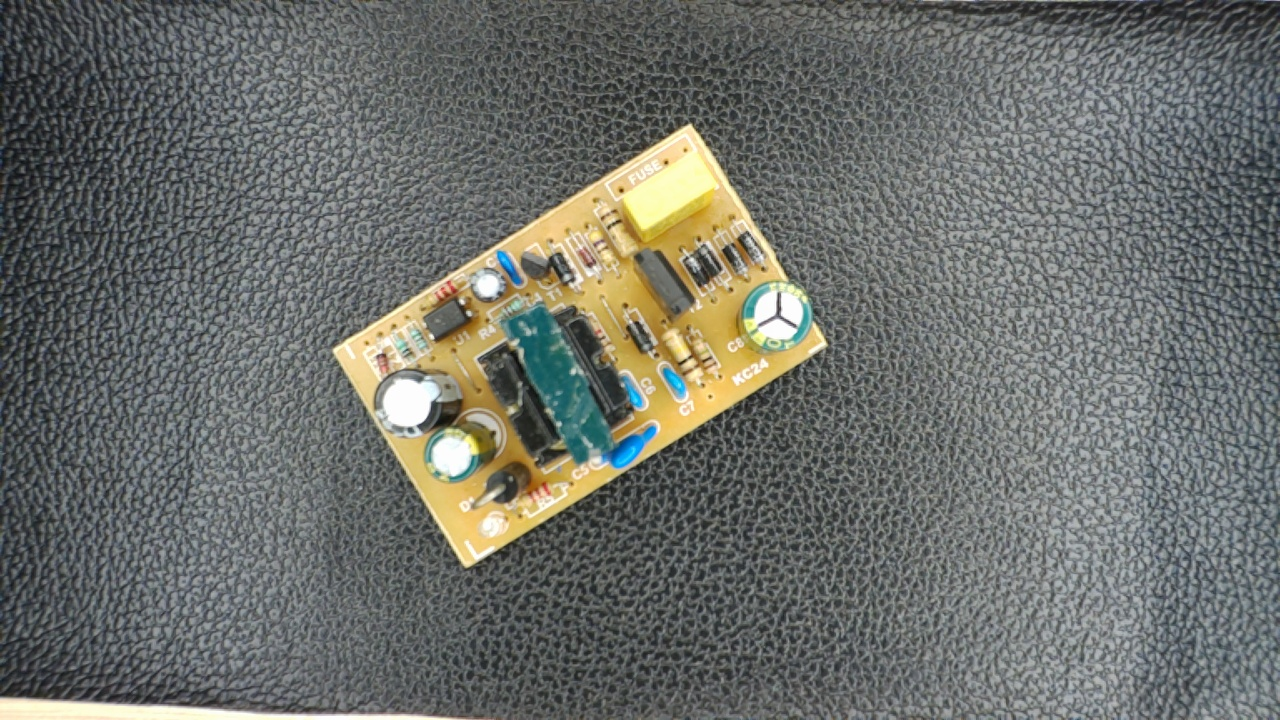hv_capacitor: (737, 279, 813, 351)
mov: (596, 423, 665, 471)
optocoupler: (420, 296, 480, 341)
